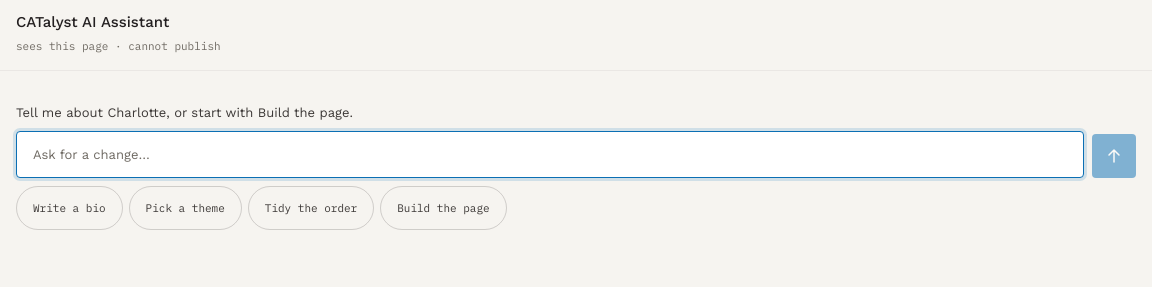
Scenario: HelperPanel › the greeting above the composer while the thread is empty › is the same line in the phone sheet, and leaves once the first request is sent
Expected: the text "Tell me about Charlotte, or start with Build the page." is shown, [16,105,353,120]
Type "Tidy the order" into the text box with placeholder "Ask for a change…" at (550, 155), box [16,131,1084,178]
Then press Enter
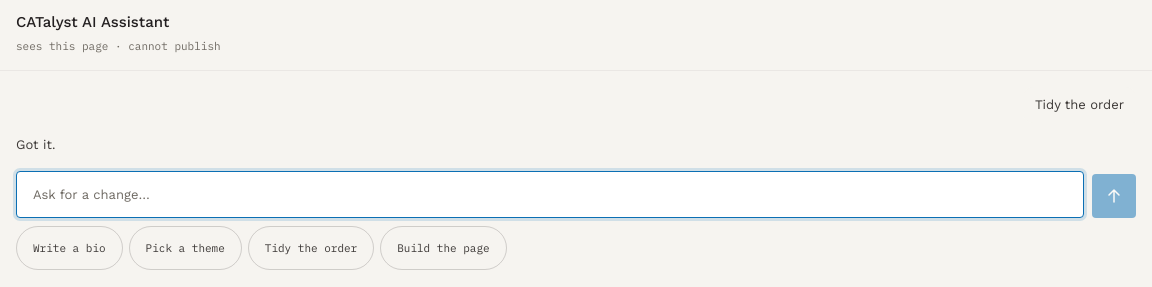
Expected: the text "Tell me about" is gone
